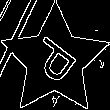P_SE: (25, 30, 85, 90)
